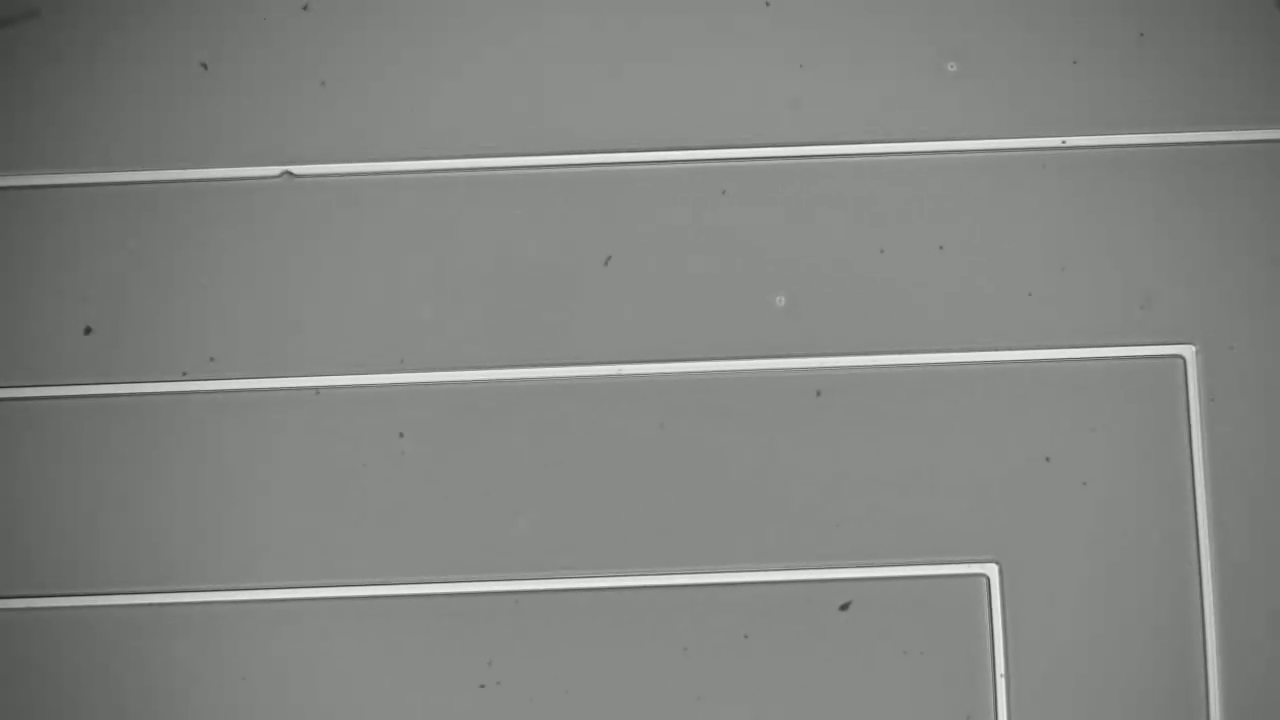edge_bite: (268, 156, 304, 185)
